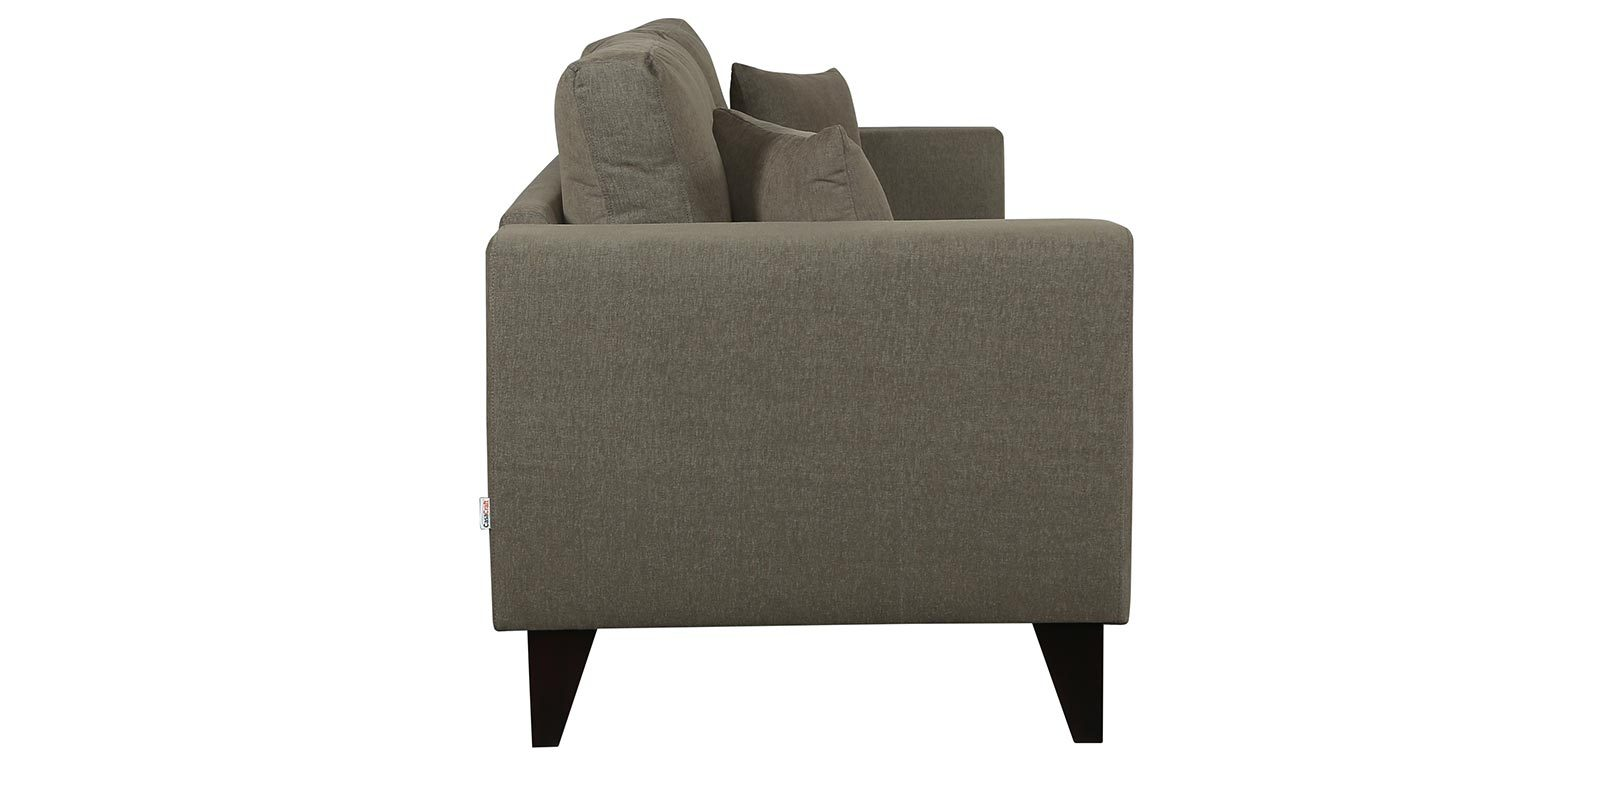Alfredo Three Seater Sofa in Sandy Brown Colour by CasaCraft: (463, 10, 1141, 762)
